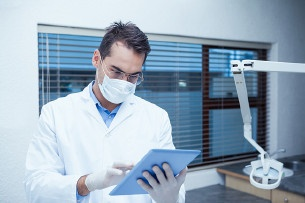Mask: (100, 60, 141, 101)
